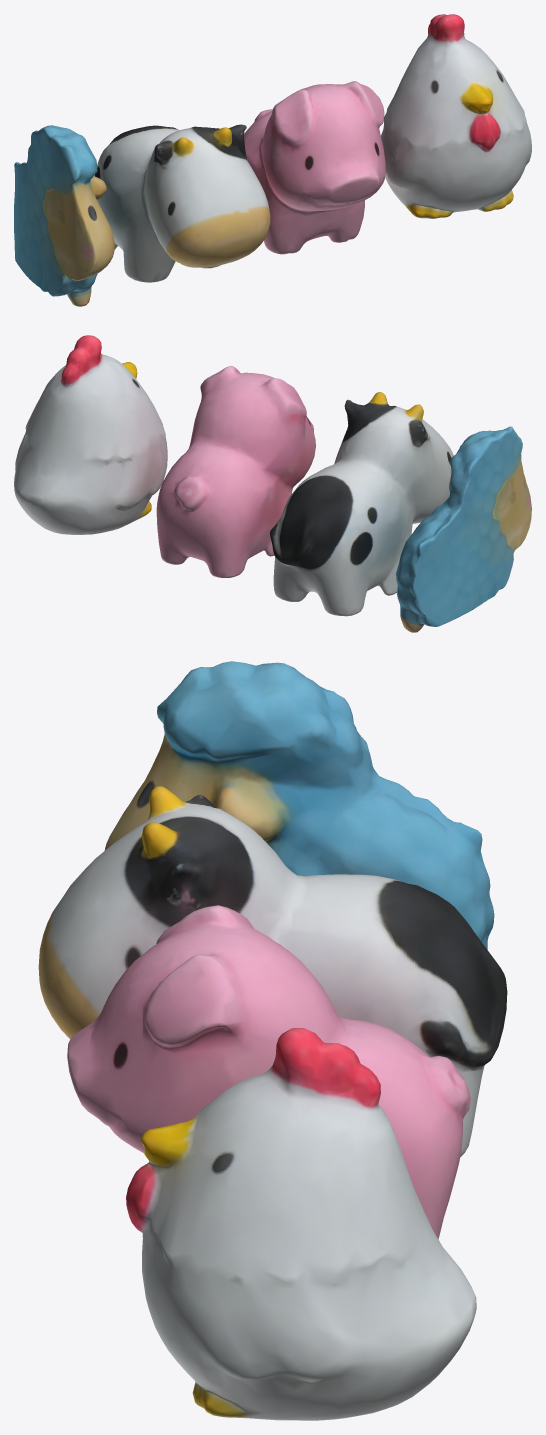
Rendered from Squirtin_Barnyard_Friends_4pk.glb.
The picture shows the model from 3 angles, top to bottom: view 1: azimuth 30°, elevation 25°; view 2: azimuth 150°, elevation 25°; view 3: azimuth 270°, elevation 25°; orthographic projection. The views are drawn at different scales.
Visible parts, largest first — view 1: Squirtin_Barnyard_Friends_4pk; view 2: Squirtin_Barnyard_Friends_4pk; view 3: Squirtin_Barnyard_Friends_4pk.
Part boxes in pixels (<box>): Squirtin_Barnyard_Friends_4pk: <box>14,14,531,306</box>; Squirtin_Barnyard_Friends_4pk: <box>14,335,531,632</box>; Squirtin_Barnyard_Friends_4pk: <box>38,661,507,1420</box>.
Bounding box in the file's own units: 0.1863 × 0.0688 × 0.081.
Materials: 1 (1 with a texture image).
